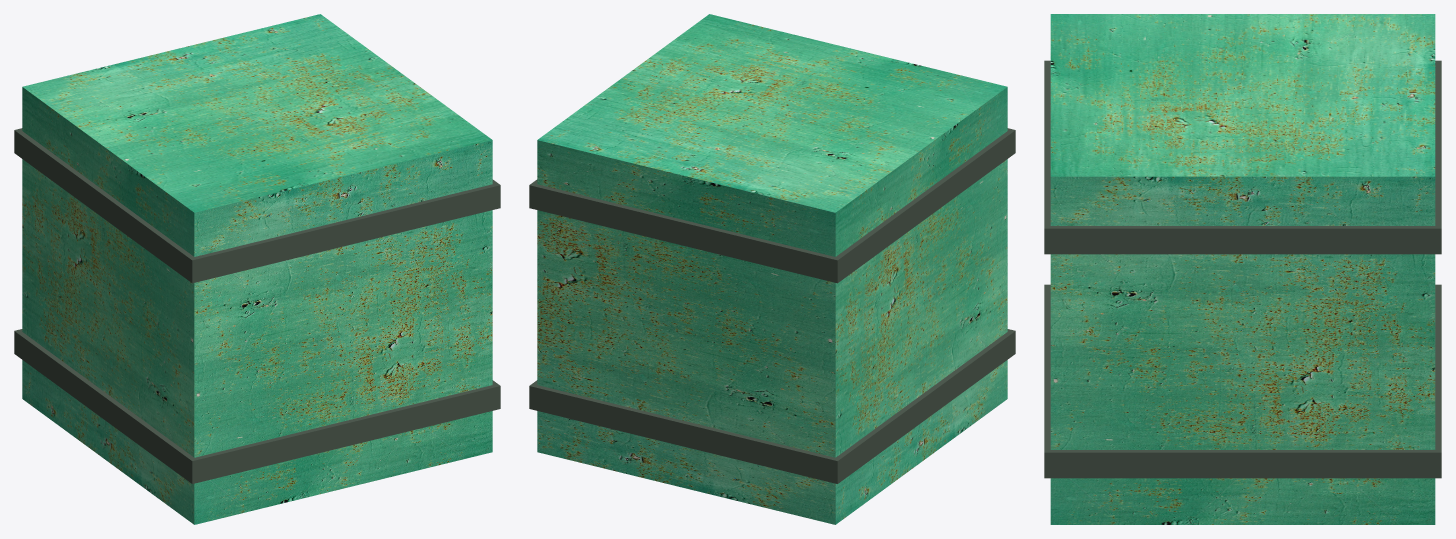
File: greenBox.fbx
The picture shows the model from 3 angles, left to right: view 1: azimuth 30°, elevation 25°; view 2: azimuth 150°, elevation 25°; view 3: azimuth 270°, elevation 25°; orthographic projection. The views are drawn at different scales.
Parts seen in each view (by area): view 1: pCube1; view 2: pCube1; view 3: pCube1.
Boxes of the visible parts, box(x1,y1,x2,y2) form: pCube1: box(14, 14, 500, 524); pCube1: box(529, 14, 1015, 524); pCube1: box(1044, 14, 1441, 524).
Size of the model in its own units: 6.42 by 6.2 by 6.42.
Materials: 2 (1 with a texture image).
